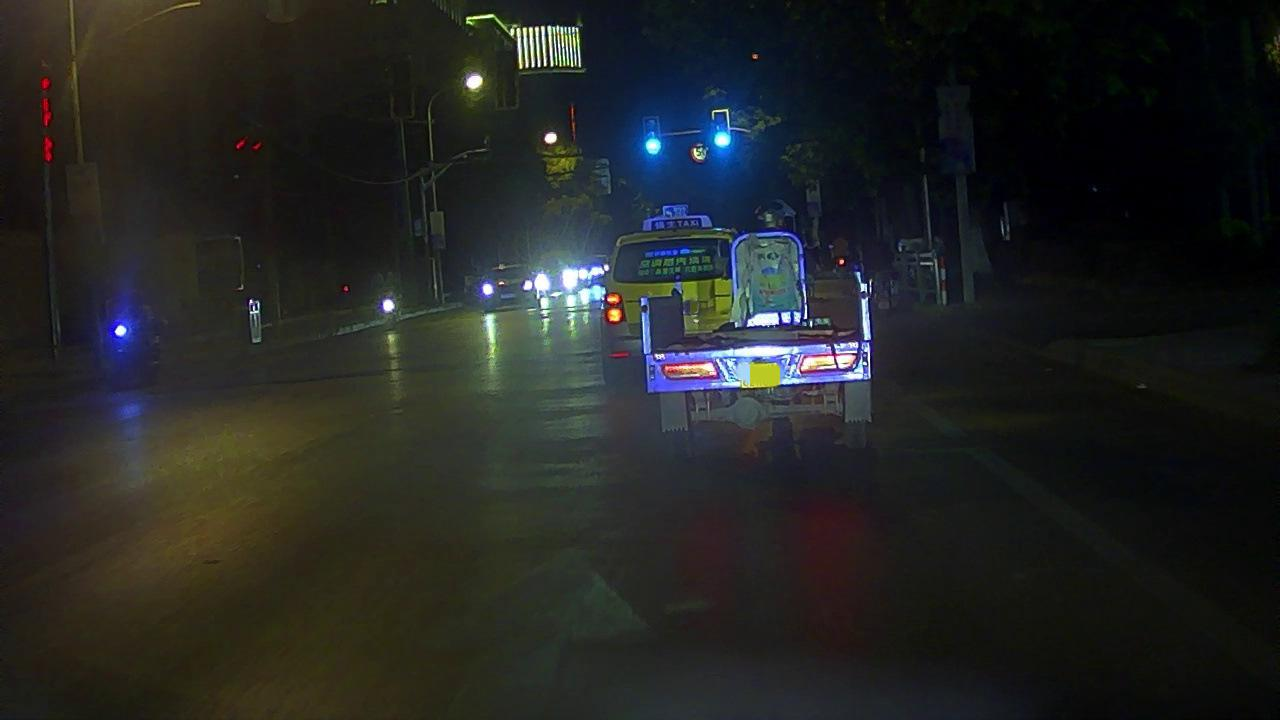traffic_light: (714, 112, 732, 151), (645, 120, 662, 157)
